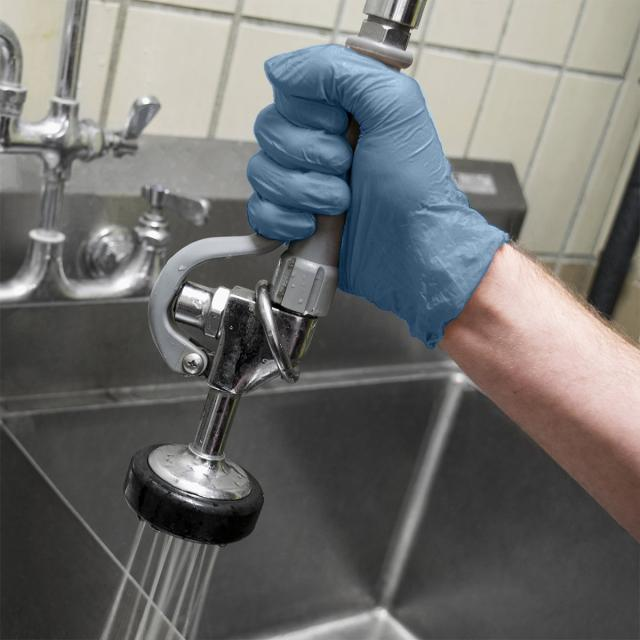gloves: (251, 39, 519, 350)
